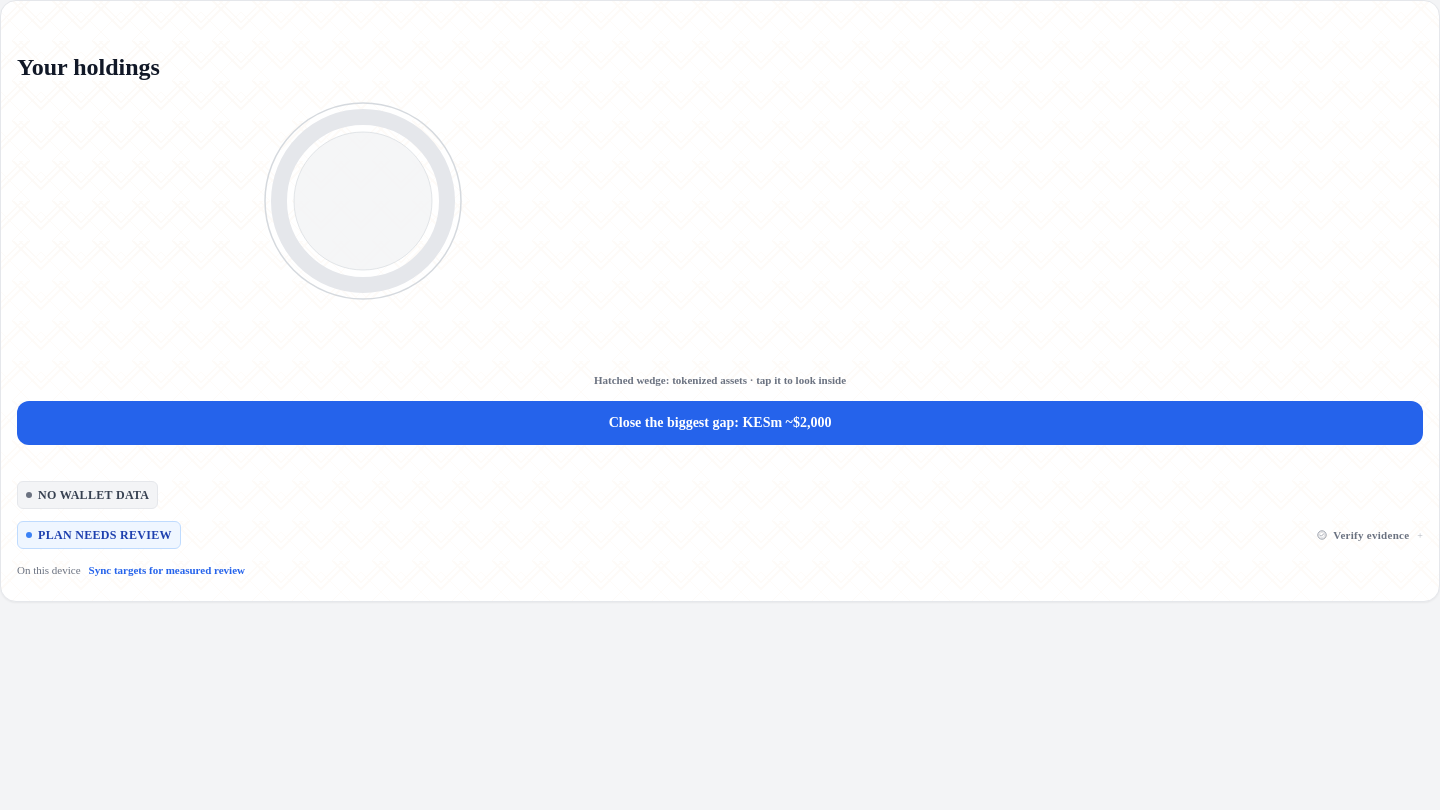
Test: ProtectionTab — instrument shapes › gap idle: one CTA beneath the ring — close the biggest gap — none in the status tier
Expected: the text "Tap a slice to close the gap." is not shown
Click the button with test id "shield-biggest-gap-cta" at (720, 423), box [17,401,1423,445]
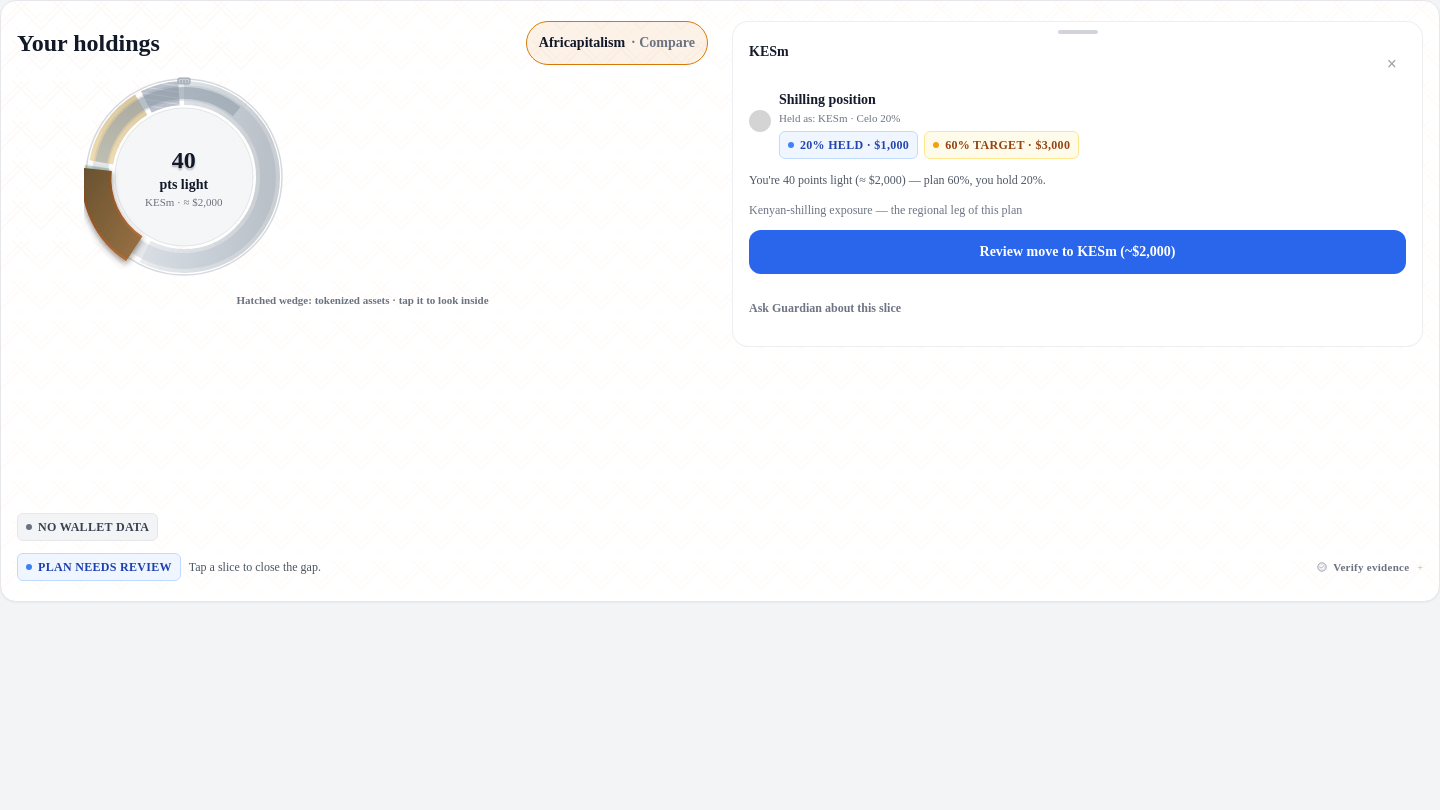
Now the element with test id "inspector-sheet" is shown, box [732,21,1423,347]
Now the text "Shilling position" is shown, box [779,92,876,107]
Now the button "Review move to KESm (~$2,000)" is shown, box [749,230,1406,274]
